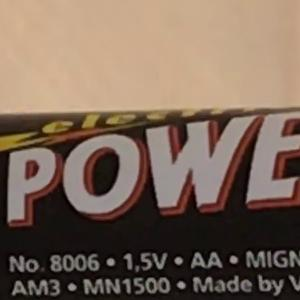keyword: (115, 244, 176, 278)
